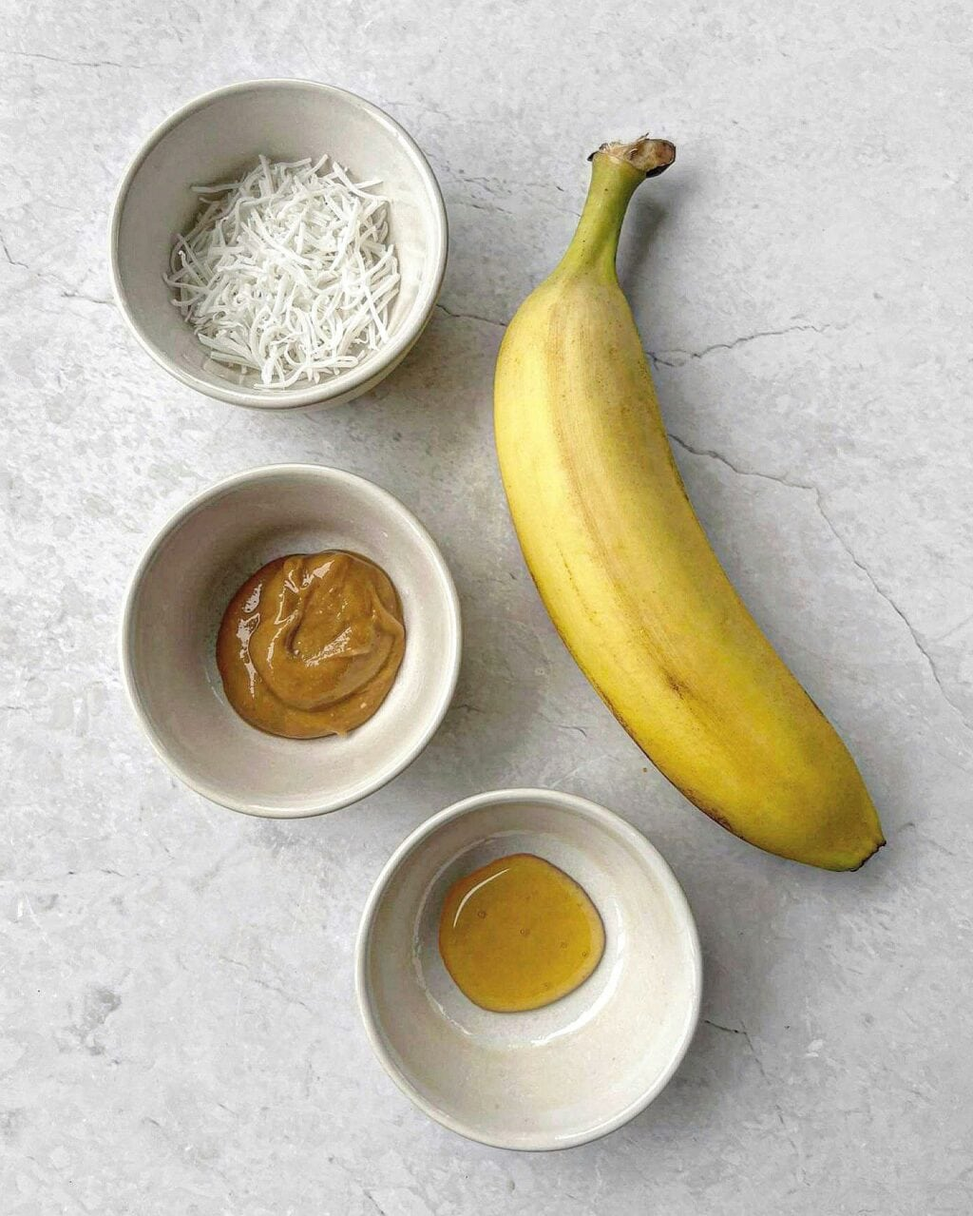banana: (469, 125, 909, 881)
